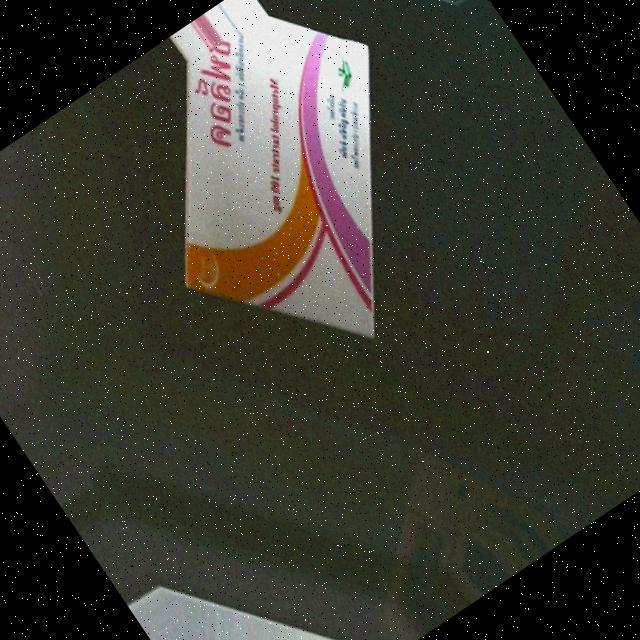sefloc: (182, 5, 372, 338)
